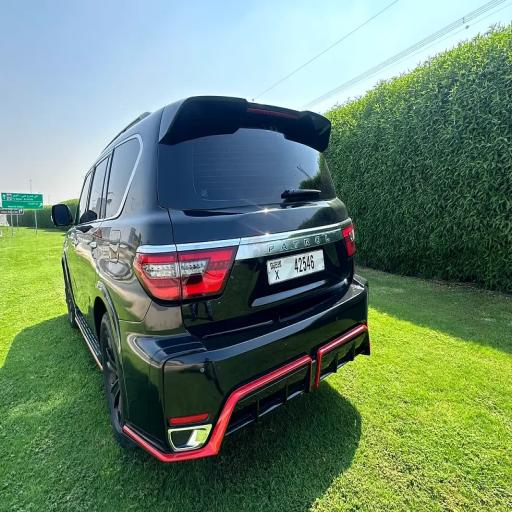license-plates: (267, 248, 324, 285)
